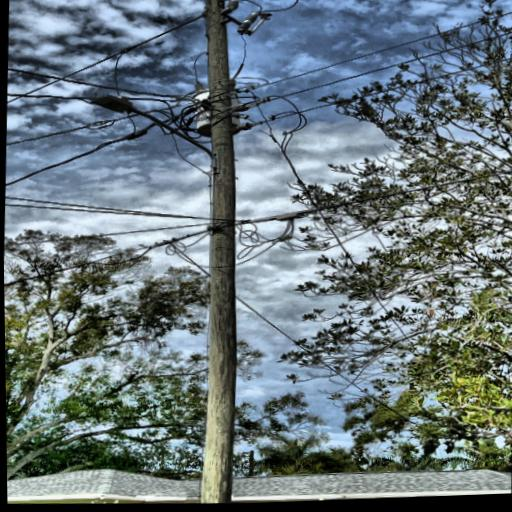pole: (158, 0, 258, 505)
street light: (86, 89, 225, 181)
transformer: (189, 86, 243, 140)
